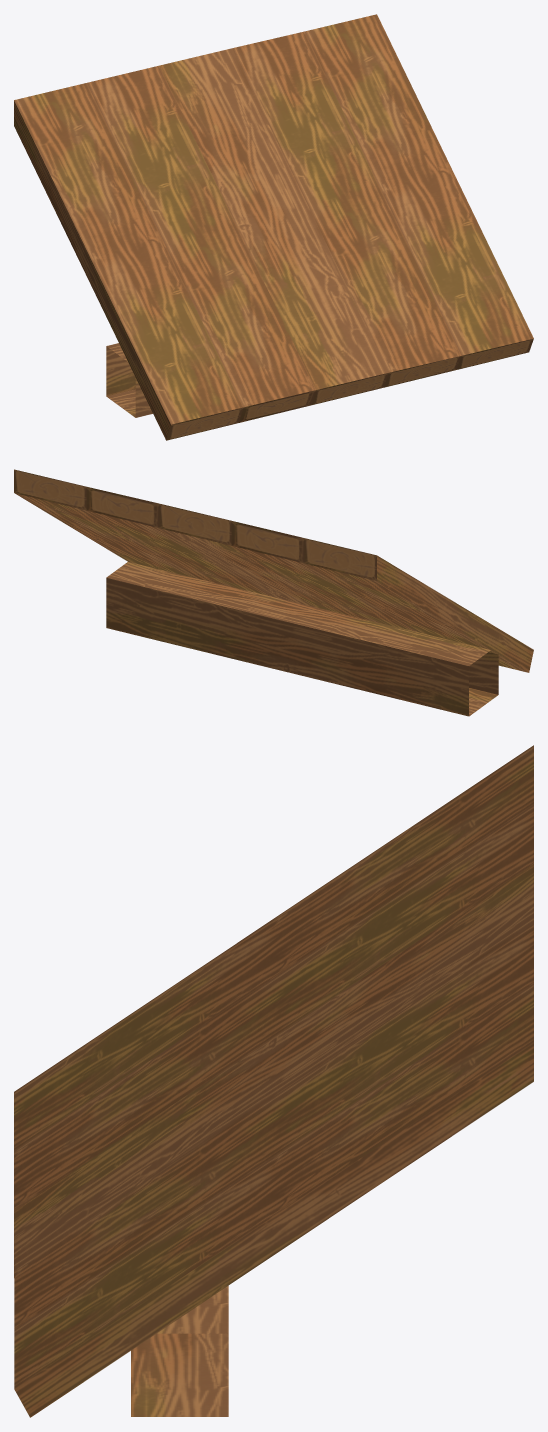
The model's file is Roof_Wooden_2x1_Center.gltf.
3 renders of one model, top to bottom at view 1: azimuth 30°, elevation 25°; view 2: azimuth 150°, elevation 25°; view 3: azimuth 270°, elevation 25°, orthographic. The views are drawn at different scales.
Visible parts, largest first — view 1: Roof_Wooden_2x1_Center; view 2: Roof_Wooden_2x1_Center; view 3: Roof_Wooden_2x1_Center.
Boxes of the visible parts, left/top/right/bottom form: Roof_Wooden_2x1_Center: left=14, top=14, right=533, bottom=440; Roof_Wooden_2x1_Center: left=14, top=469, right=533, bottom=716; Roof_Wooden_2x1_Center: left=14, top=745, right=533, bottom=1417.
Bounding box in the file's own units: 2 × 1.21 × 1.5.
Materials: 2 (2 with a texture image).
